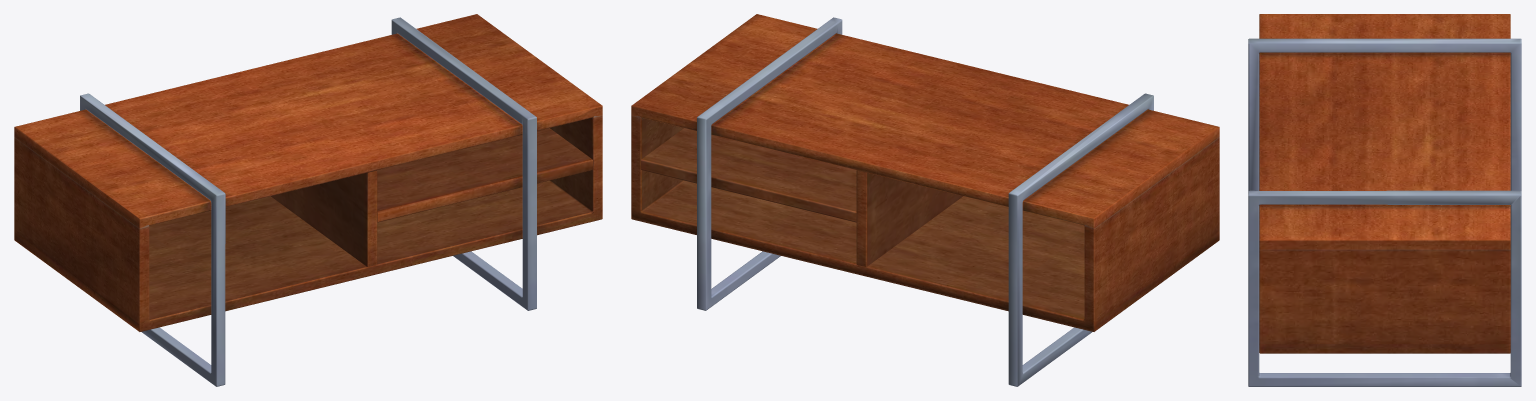
3 views of the same model, side by side, from view 1: azimuth 30°, elevation 25°; view 2: azimuth 150°, elevation 25°; view 3: azimuth 270°, elevation 25° (orthographic).
Visible parts, largest first — view 1: AV Unit 01; view 2: AV Unit 01; view 3: AV Unit 01.
Part boxes in pixels (x1,y1,x2,y2): AV Unit 01: (14, 14, 602, 386); AV Unit 01: (631, 14, 1219, 386); AV Unit 01: (1248, 14, 1521, 386).
Bounding box in the file's own units: 1.64 × 0.6494 × 0.8379.
1 material, 1 textured.
